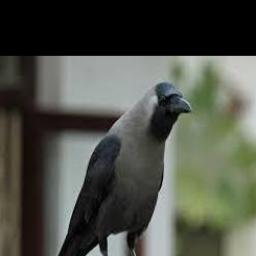Crow: (45, 81, 192, 256)
